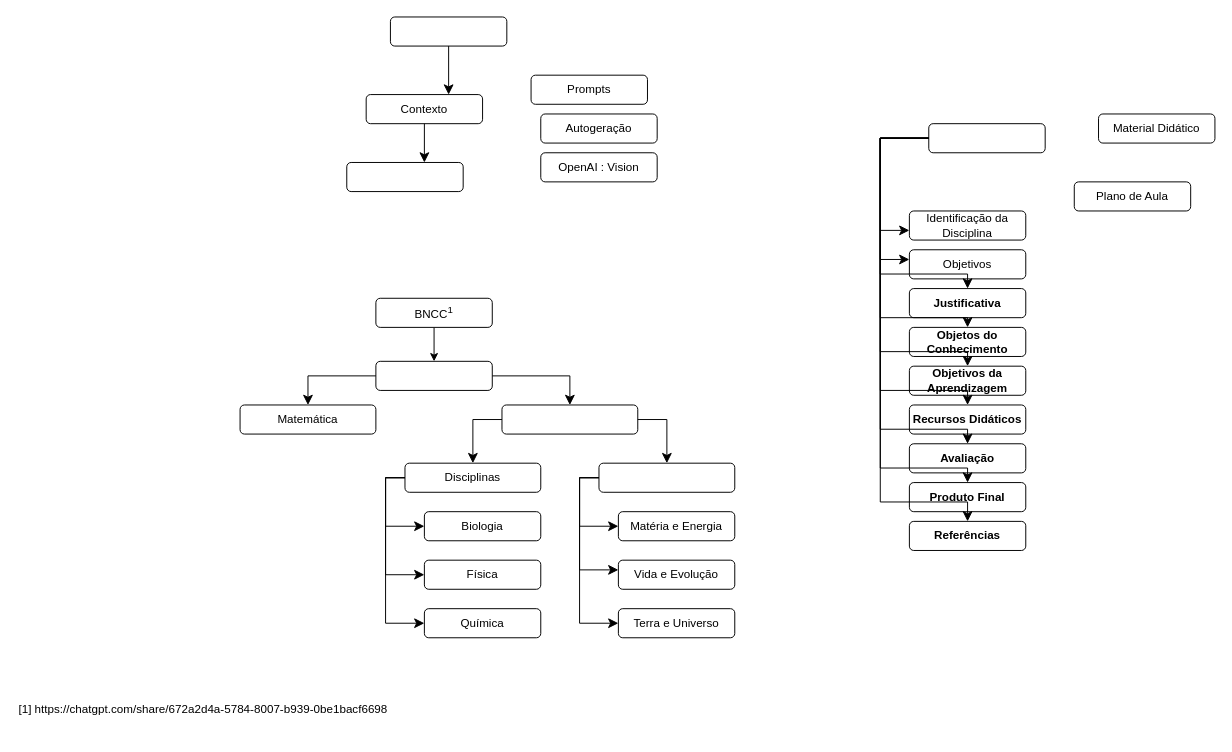
Some shapes in this 1232 by 752 pixel diagram are drawn without their labels. The shapes that lost their labels are listed below. From the top down, each one's centre as x and y in pixels, then its label:
At (x=448, y=31): "LLM".
At (x=986, y=138): "Plano de Ensino".
At (x=404, y=177): "Material".
At (x=433, y=375): "Áreas".
At (x=569, y=419): "Ciências da Natureza".
At (x=666, y=477): "Temas".
